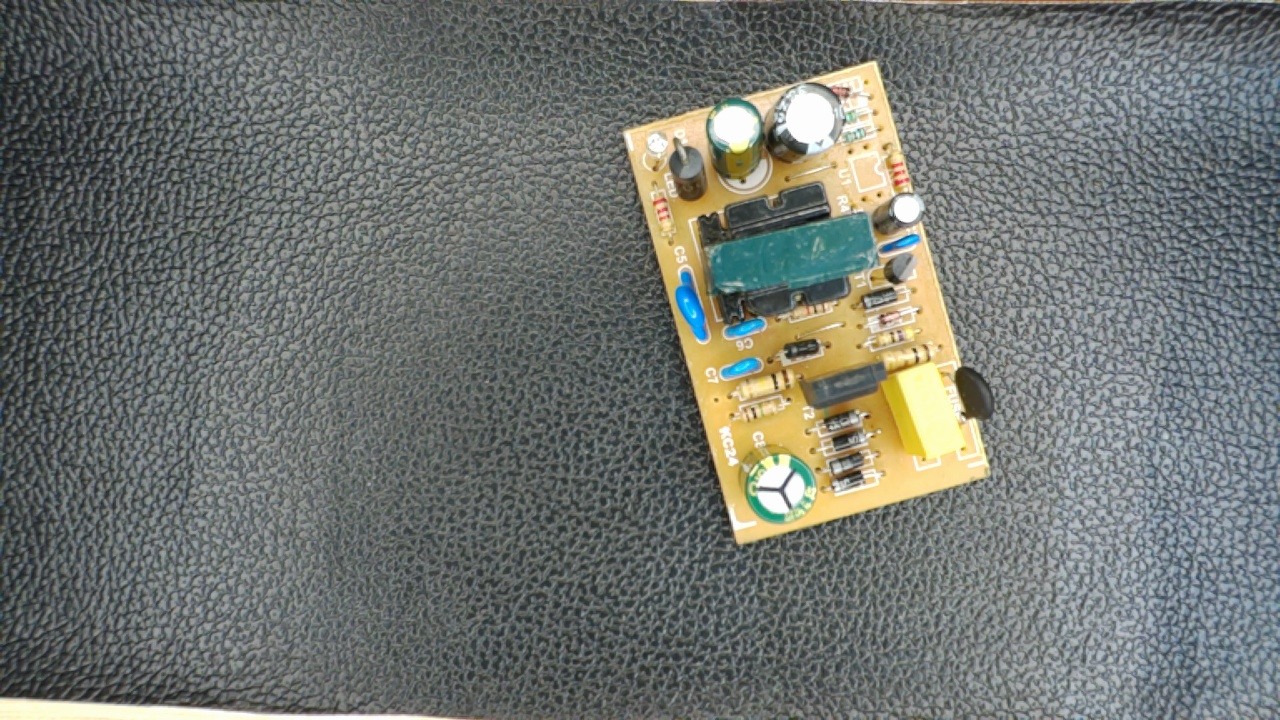fuse: (935, 357, 998, 432)
hv_capacitor: (734, 444, 822, 530)
mov: (668, 263, 714, 342)
